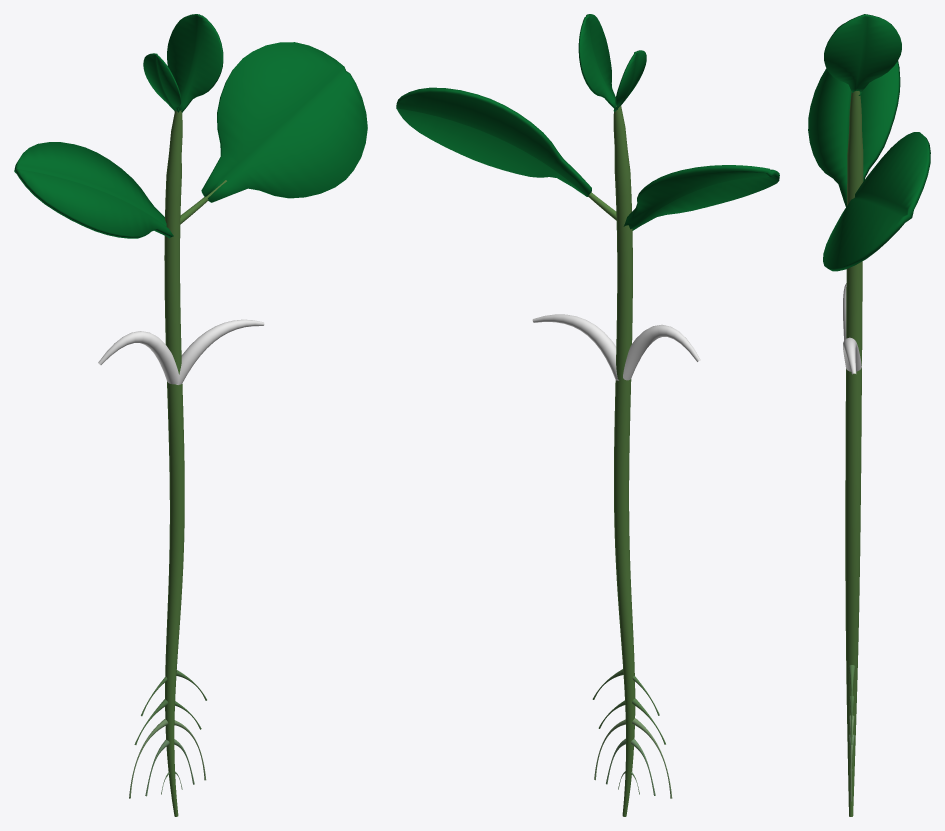
The model's file is Frijol_4.glb.
3 views of the same model, side by side, from view 1: azimuth 30°, elevation 25°; view 2: azimuth 150°, elevation 25°; view 3: azimuth 270°, elevation 25° (orthographic). The views are drawn at different scales.
Parts seen in each view (by area): view 1: Hoja.001, raiz_principal.006, Hoja.002, Hoja.003, raiz_principal.005, raiz_principal.004, Hoja.004; view 2: raiz_principal.006, Hoja.001, Hoja.002, Hoja.003, raiz_principal.005, raiz_principal.004, Hoja.004; view 3: raiz_principal.006, Hoja.001, Hoja.002, Hoja.003, raiz_principal.004.
Part boxes in pixels (x1,y1,x2,y2): Hoja.001: (201,42,367,202); raiz_principal.006: (164,110,184,816); Hoja.002: (14,142,173,238); Hoja.003: (167,14,223,112); raiz_principal.005: (98,331,179,384); raiz_principal.004: (175,319,264,384); Hoja.004: (143,53,181,112); raiz_principal.006: (613,106,635,816); Hoja.001: (396,87,591,196); Hoja.002: (623,165,779,230); Hoja.003: (578,14,617,109); raiz_principal.005: (617,324,700,380); raiz_principal.004: (532,314,617,380); Hoja.004: (613,50,646,111); raiz_principal.006: (845,91,863,816); Hoja.001: (823,132,930,271); Hoja.002: (808,61,900,206); Hoja.003: (824,14,901,92); raiz_principal.004: (843,337,861,374).
Bounding box in the file's own units: 1.55 × 3.27 × 0.4449.
